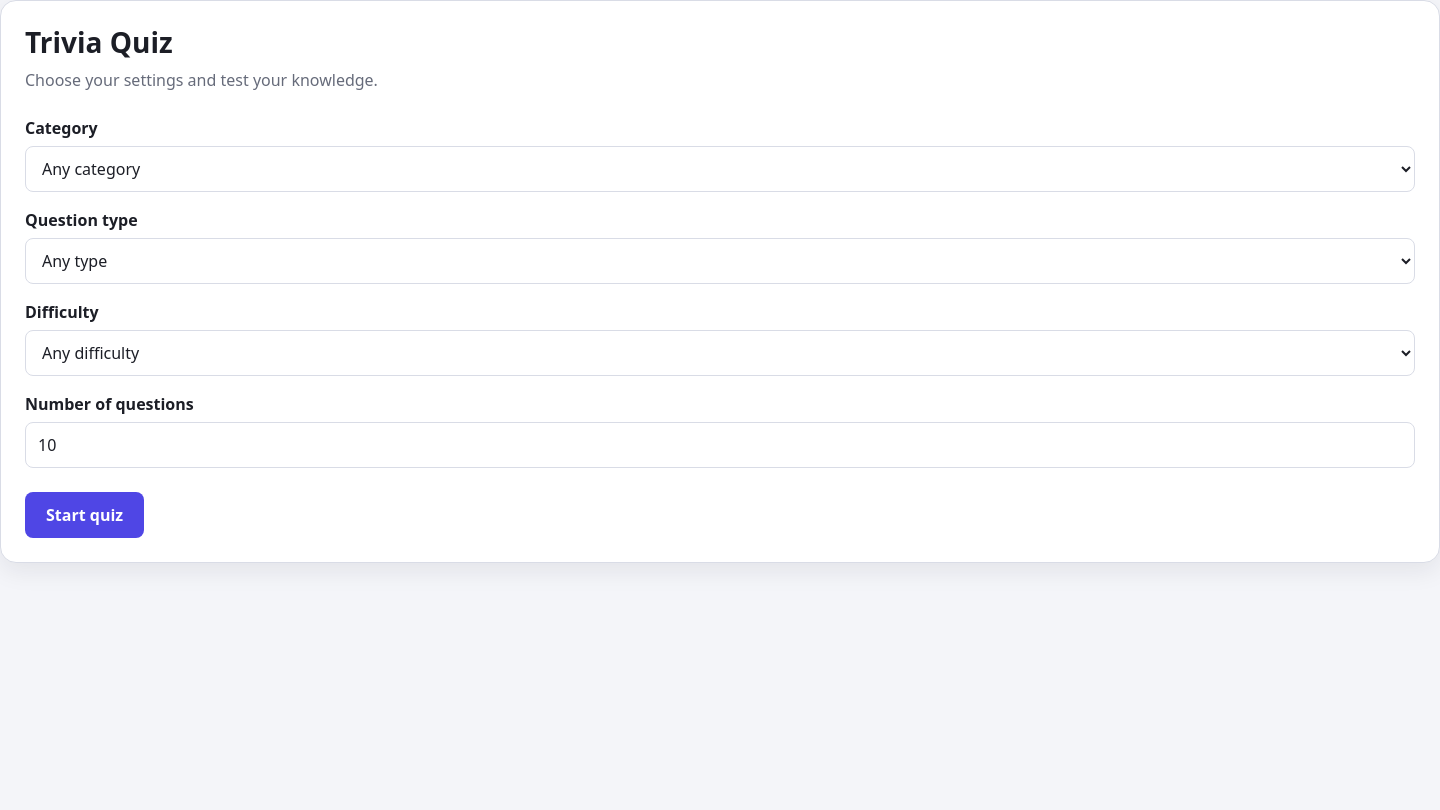
Test: App › requests questions without any placeholder filters
Click the button "Start quiz". click: [85, 515]
box: top-left (25, 492), bottom-right (144, 538)
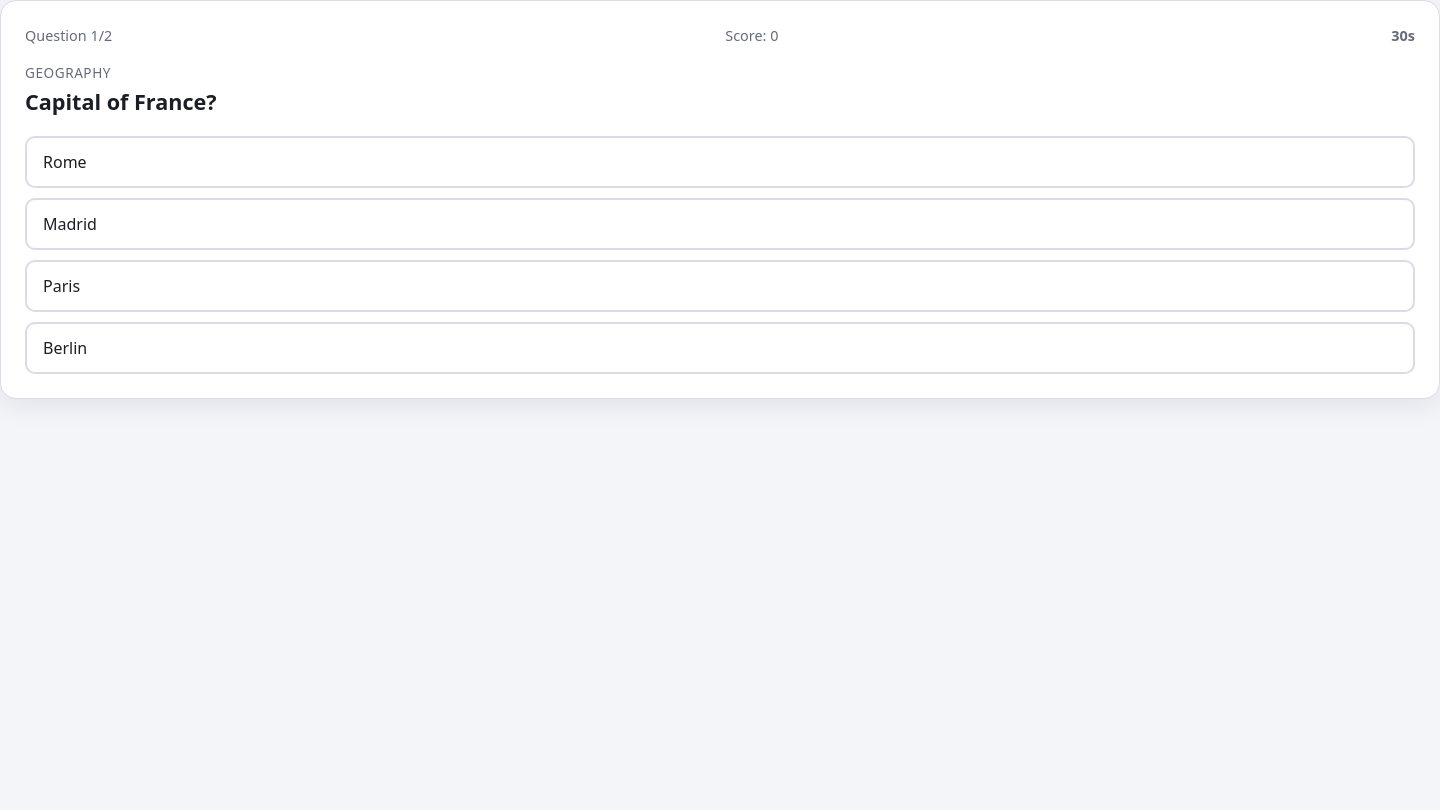
Check: the heading "Capital of France?" is shown, box top-left (25, 87), bottom-right (217, 116)
